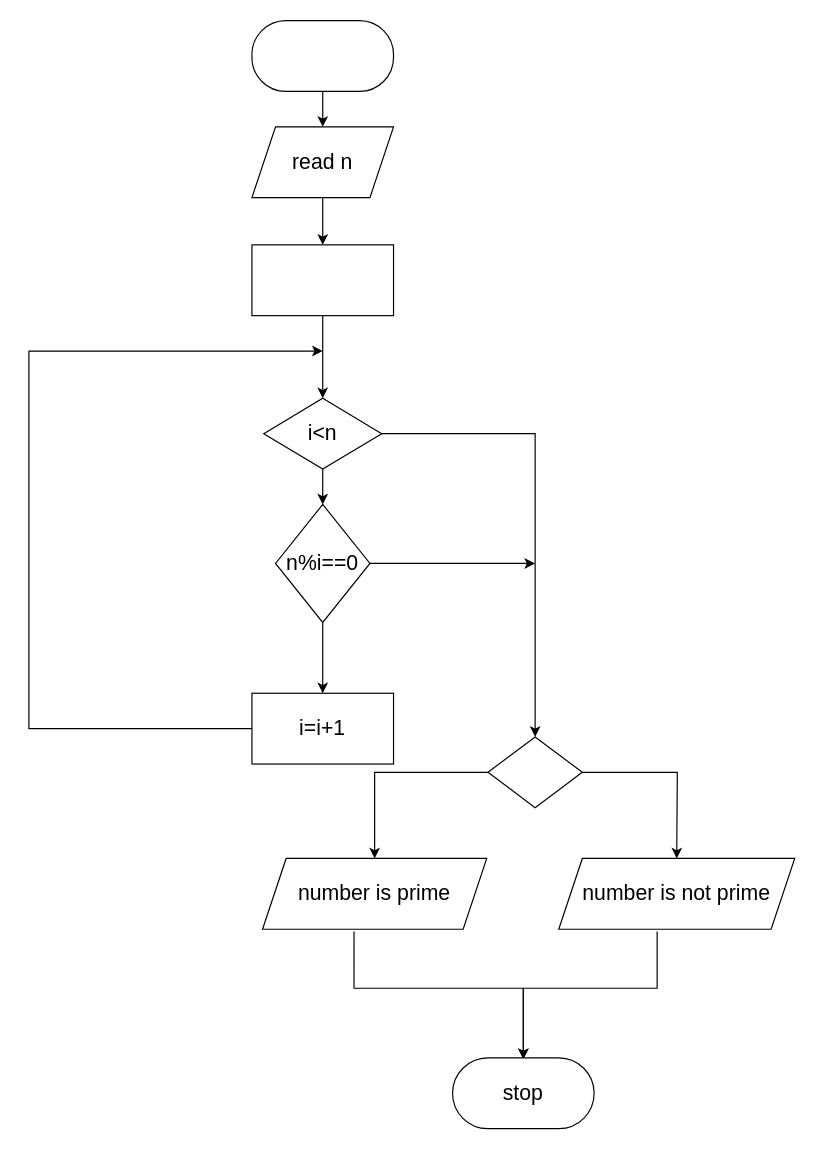
Image size: 815x1149. Some labels were removed from this diagram. The shapes that lost their labels are listed below. From the top down, each one's centre as x and y in pixels, then its label:
At point 322,55: "start".
At point 322,280: "i=2".
At point 534,772: "i==n".
